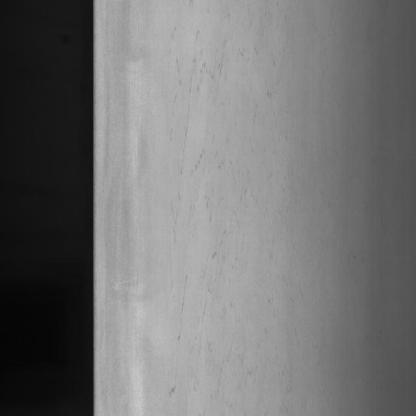silk_spot: (156, 6, 263, 391)
